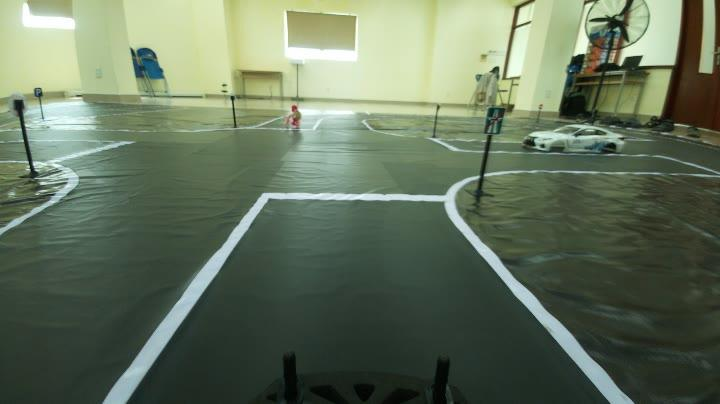highway_exit: (482, 102, 506, 136)
